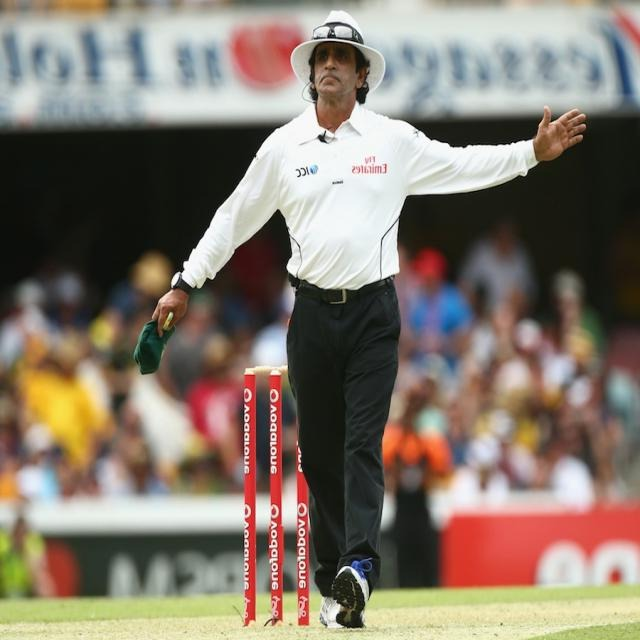No_Ball: (136, 6, 592, 640)
